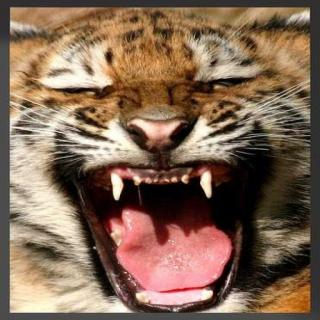Tiger: (10, 5, 313, 312)
